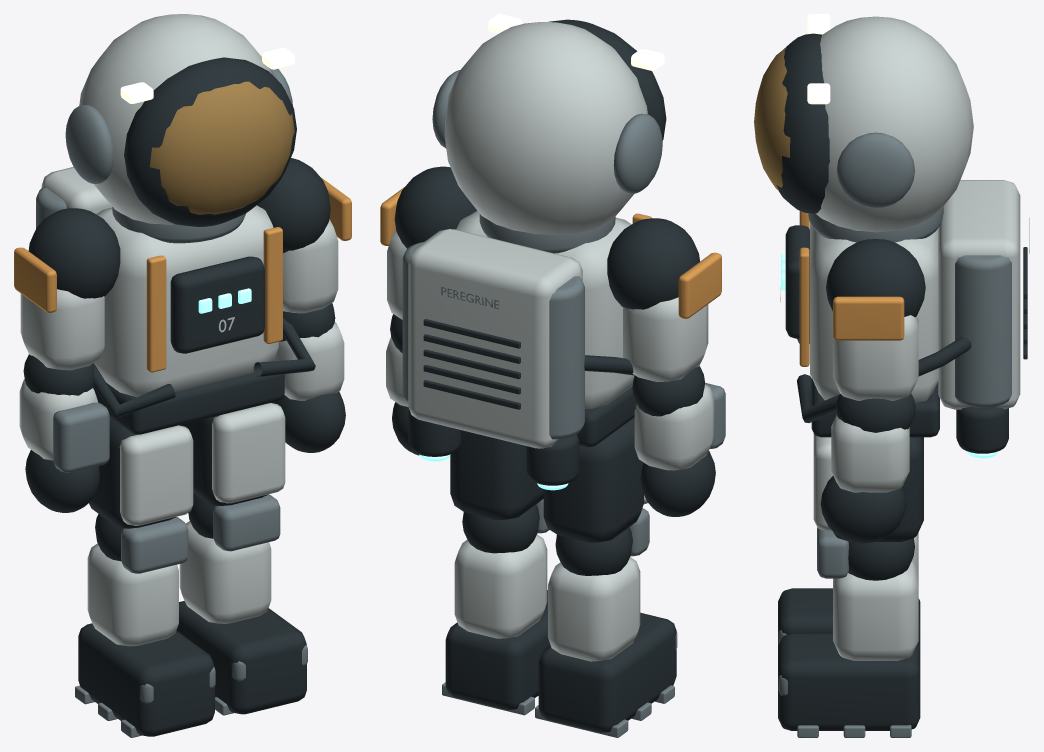
The model's file is explorer-v2.glb.
3 views of the same model, side by side, from view 1: azimuth 30°, elevation 25°; view 2: azimuth 150°, elevation 25°; view 3: azimuth 270°, elevation 25° (orthographic).
Parts seen in each view (by area): view 1: Pressure torso, Gold wrap visor, Helmet shell, Boot, Boot.001, Visor rim, Chest instrumentation, Shin plate, Shin plate.001, Thigh armor, Thigh armor.001, Shoulder bearing (+29 smaller); view 2: Helmet shell, Life support housing, Boot, Thigh pressure liner, Shin plate.001, Shin plate, Boot.001, Shoulder bearing, Thigh pressure liner.001, Pressure torso, Bicep armor, Fuel canister (+28 smaller); view 3: Helmet shell, Boot.001, Life support housing, Fuel canister.001, Shin plate.001, Pressure torso, Visor rim, Bicep armor.001, Shoulder bearing.001, Forearm shell.001, Comms module.001, Glove.001 (+16 smaller).
Part boxes in pixels (x1,y1,x2,y2): Pressure torso: [94, 205, 278, 397]; Gold wrap visor: [149, 81, 294, 214]; Helmet shell: [79, 14, 271, 225]; Boot: [78, 623, 214, 736]; Boot.001: [176, 601, 306, 714]; Visor rim: [124, 57, 296, 226]; Chest instrumentation: [170, 256, 264, 353]; Shin plate: [87, 543, 178, 646]; Shin plate.001: [179, 521, 271, 623]; Thigh armor: [119, 425, 193, 525]; Thigh armor.001: [212, 403, 285, 503]; Shoulder bearing: [28, 208, 120, 298]; Helmet shell: [444, 22, 647, 235]; Life support housing: [408, 229, 582, 448]; Boot: [538, 612, 676, 732]; Thigh pressure liner: [543, 417, 644, 542]; Shin plate.001: [454, 534, 547, 638]; Shin plate: [548, 557, 640, 661]; Boot.001: [445, 590, 550, 709]; Shoulder bearing: [607, 218, 699, 309]; Thigh pressure liner.001: [450, 430, 543, 519]; Pressure torso: [456, 210, 634, 409]; Bicep armor: [623, 297, 708, 381]; Fuel canister: [549, 276, 584, 439]; Helmet shell: [816, 16, 973, 232]; Boot.001: [778, 633, 920, 730]; Life support housing: [938, 180, 1020, 409]; Fuel canister.001: [955, 255, 1011, 407]; Shin plate.001: [833, 561, 918, 660]; Pressure torso: [810, 222, 938, 402]; Visor rim: [776, 33, 829, 213]; Bicep armor.001: [833, 315, 918, 400]; Shoulder bearing.001: [826, 239, 925, 317]; Forearm shell.001: [831, 414, 909, 492]; Comms module.001: [836, 132, 914, 208]; Glove.001: [820, 475, 905, 543].
Bounding box in the file's own units: 1 × 2.08 × 0.7745.
